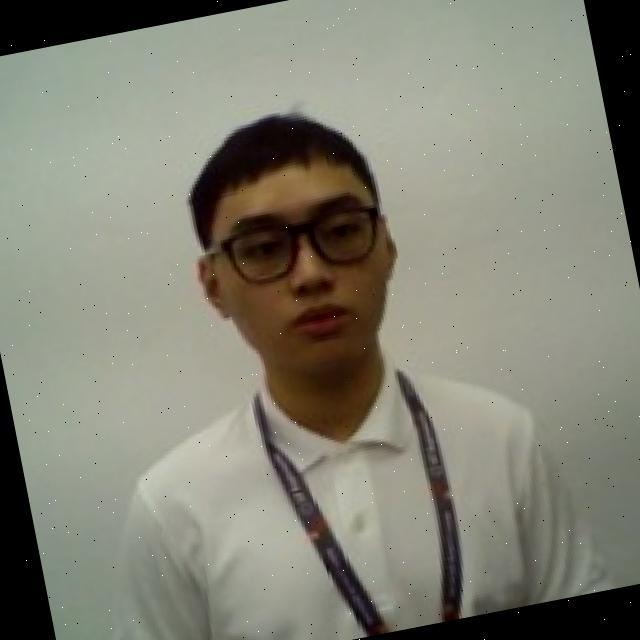no_gloves: (174, 81, 388, 244)
no_hairnet: (194, 215, 420, 402)
